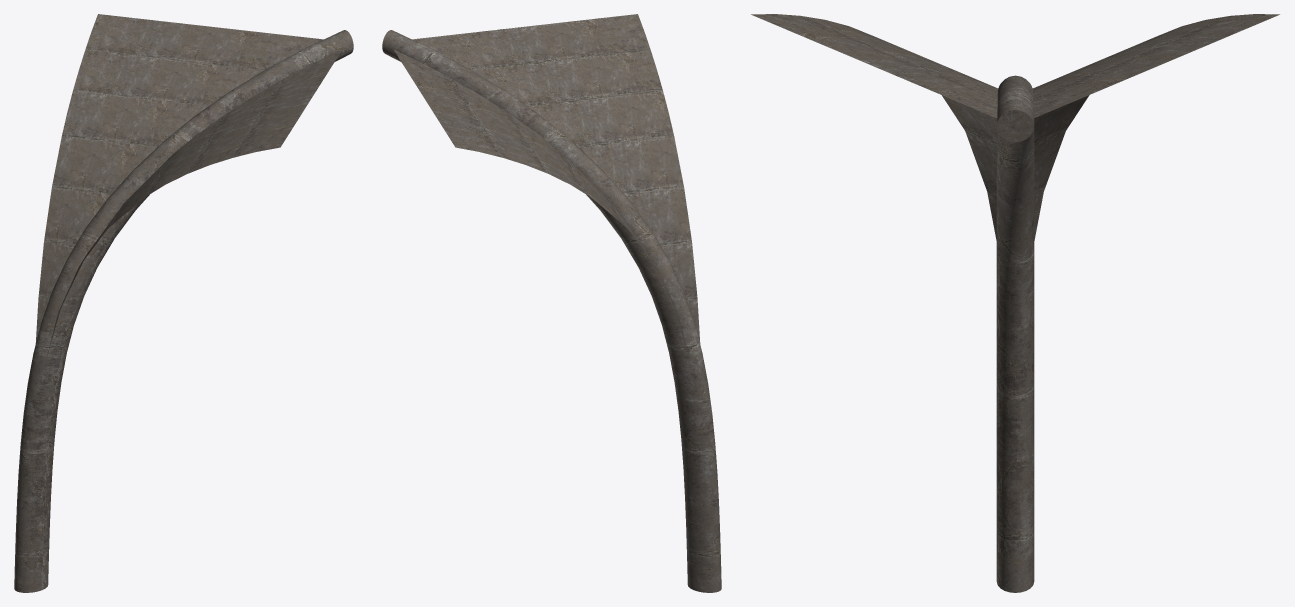
The model's file is CeilingArc.fbx.
The picture shows the model from 3 angles, left to right: view 1: azimuth 30°, elevation 25°; view 2: azimuth 150°, elevation 25°; view 3: azimuth 270°, elevation 25°; orthographic projection. The views are drawn at different scales.
Visible parts, largest first — view 1: Trim_ceiling_arc; view 2: Trim_ceiling_arc; view 3: Trim_ceiling_arc.
Boxes of the visible parts, <box> form: Trim_ceiling_arc: <box>14,14,353,592</box>; Trim_ceiling_arc: <box>382,14,721,592</box>; Trim_ceiling_arc: <box>751,14,1279,592</box>.
Size of the model in its own units: 1188 by 1638 by 1131.
